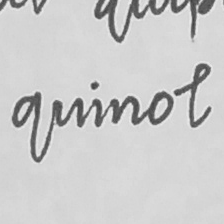i: (88, 79, 105, 130)
l: (186, 60, 213, 129)
n: (108, 92, 142, 126)
o: (146, 87, 175, 127)
q: (10, 89, 46, 164)
u: (50, 93, 86, 129)
